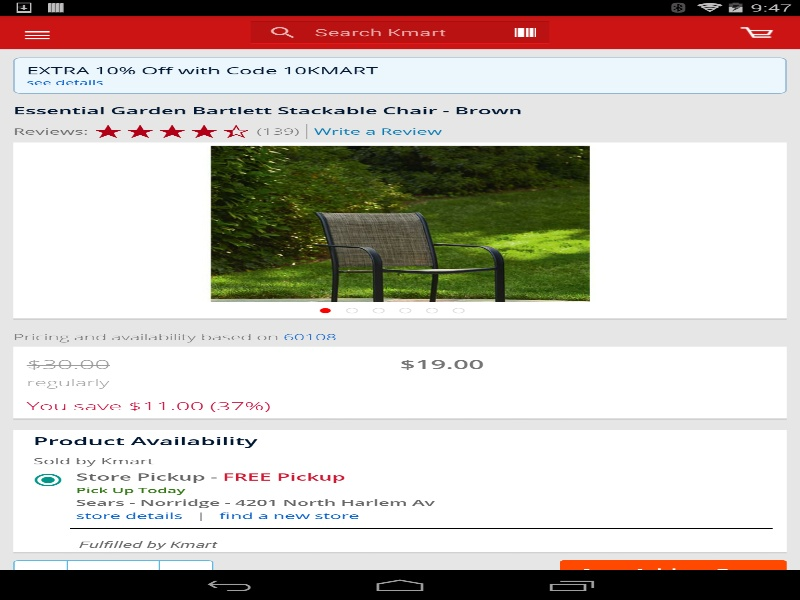Button: (0, 18, 74, 52), (13, 560, 66, 585), (160, 560, 213, 585)
Input: (68, 567, 158, 580)
